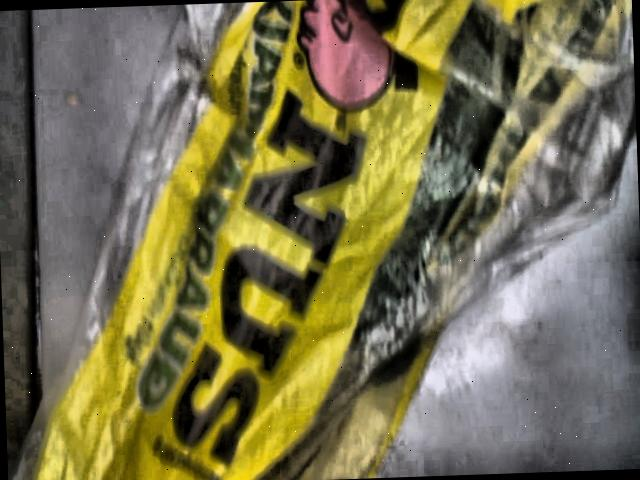Plastic: (8, 0, 637, 480)
